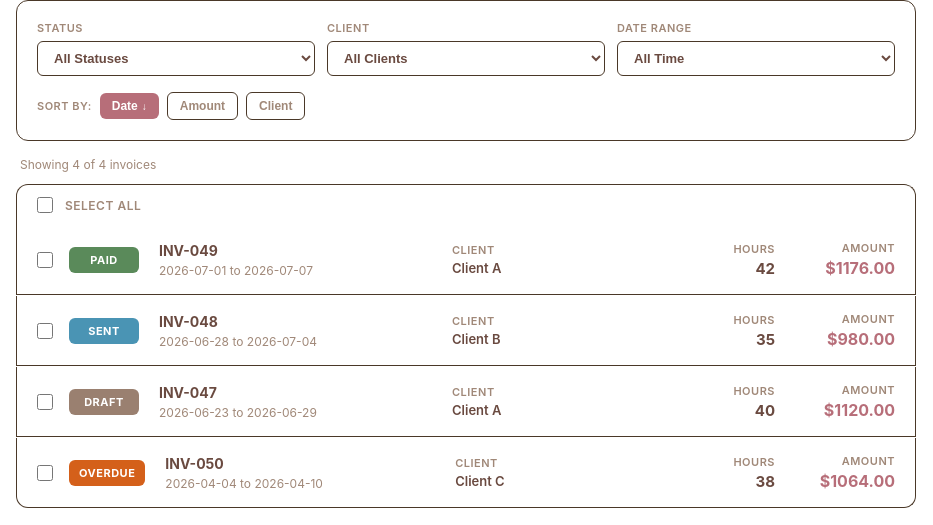
Test case: ListView › filters by status
This screenshot has width=933, height=525.
Select "Paid" in the dropdown labelled "Status" at (176,58), box [37, 41, 315, 76]
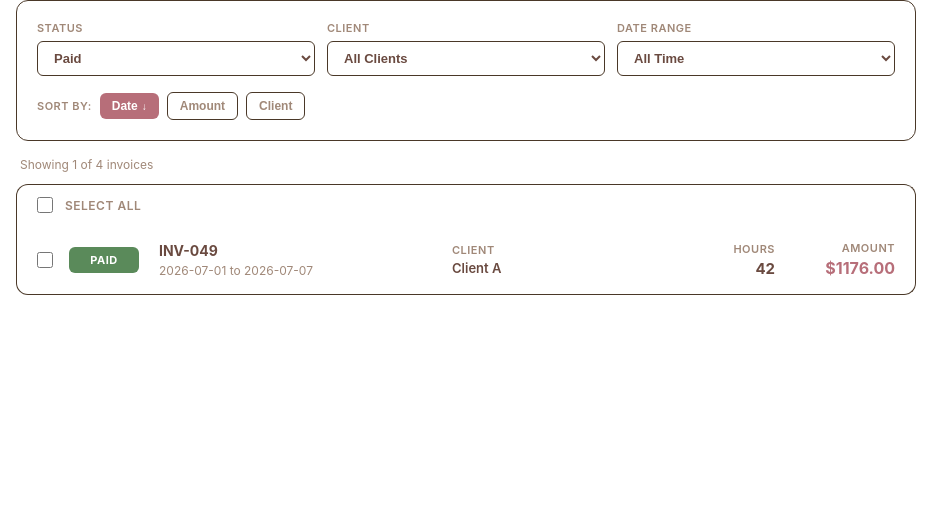
Expected: the text "INV-049" is shown, [159, 242, 218, 258]
Expected: the text "Showing 1 of 4 invoices" is shown, [20, 157, 153, 172]
Expected: the text "INV-047" is gone
